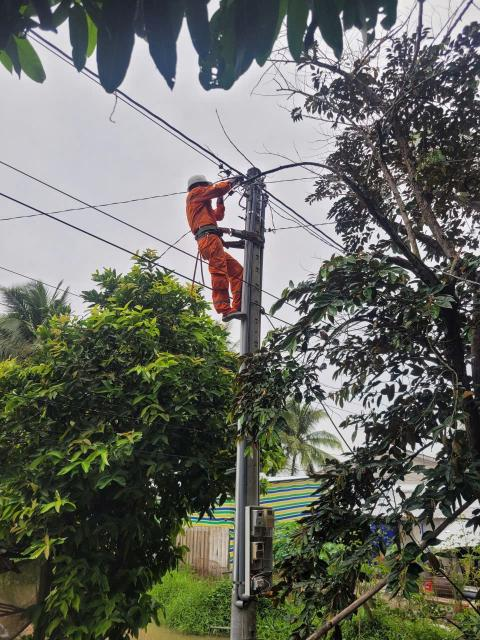gloves: (226, 173, 246, 186), (216, 187, 225, 206)
harness: (191, 221, 246, 244)
helmet: (178, 172, 215, 190)
shoes: (216, 307, 247, 325)
